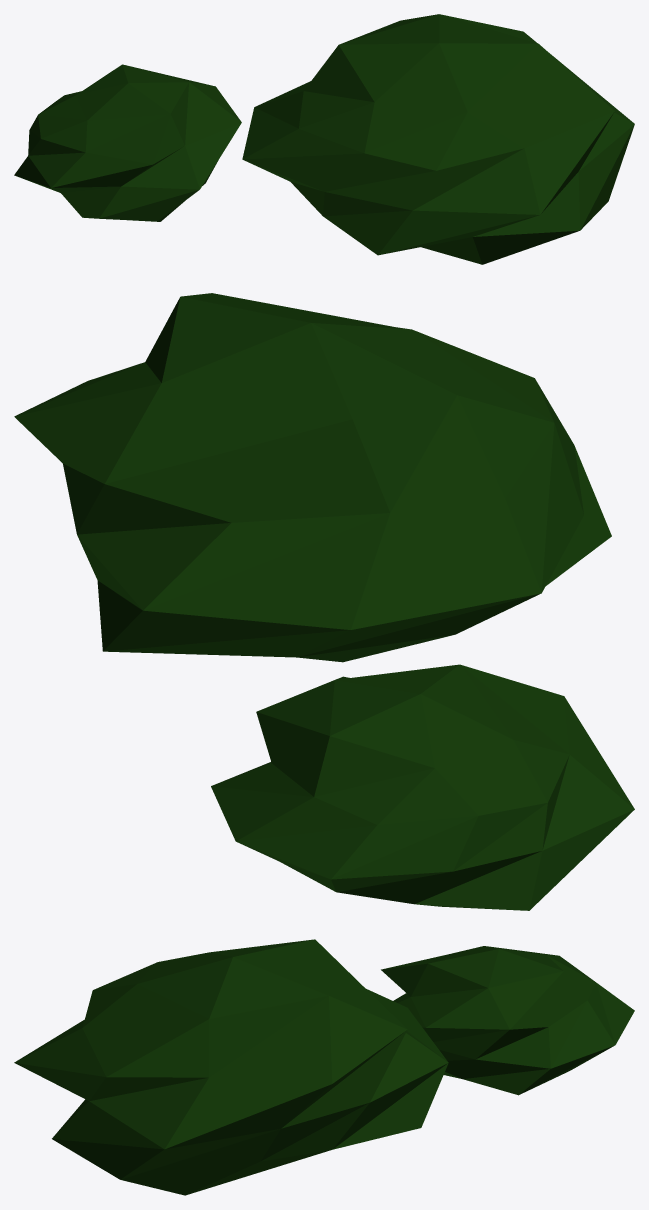
Rendered from SM_Tree08.fbx.
The picture shows the model from 3 angles, top to bottom: view 1: azimuth 30°, elevation 25°; view 2: azimuth 150°, elevation 25°; view 3: azimuth 270°, elevation 25°; orthographic projection. The views are drawn at different scales.
Visible parts, largest first — view 1: Tree07; view 2: Tree07; view 3: Tree07.
Part boxes in pixels (x1,y1,x2,y2): Tree07: (14,14,634,264); Tree07: (14,293,634,910); Tree07: (14,939,634,1195).
Bounding box in the file's own units: 90.67 × 37.73 × 99.22.
